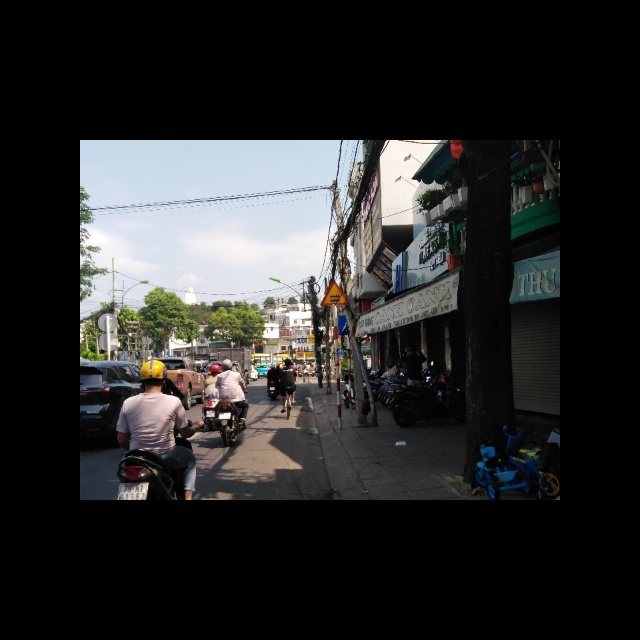Giao nhau với đường sắt có rào chắn: (320, 279, 350, 306)
